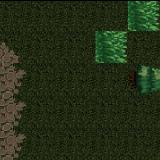Obstacle: (127, 62, 160, 97)
Slow: (95, 29, 127, 62), (127, 0, 160, 31)
